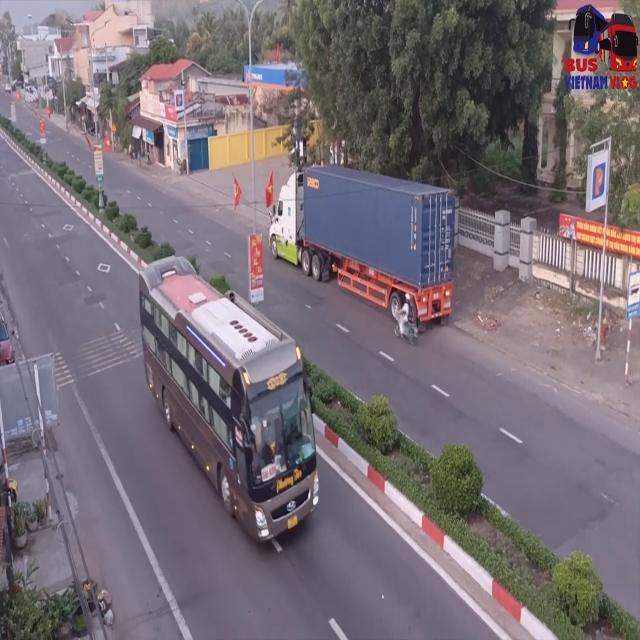bus: (134, 259, 318, 552)
truck: (271, 170, 458, 342)
